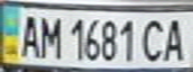1: (115, 16, 139, 62), (63, 15, 84, 61)
6: (81, 16, 103, 62)
8: (100, 16, 121, 62)
A: (160, 15, 190, 63), (15, 11, 42, 58)
C: (139, 16, 169, 63)
M: (36, 12, 63, 60)
